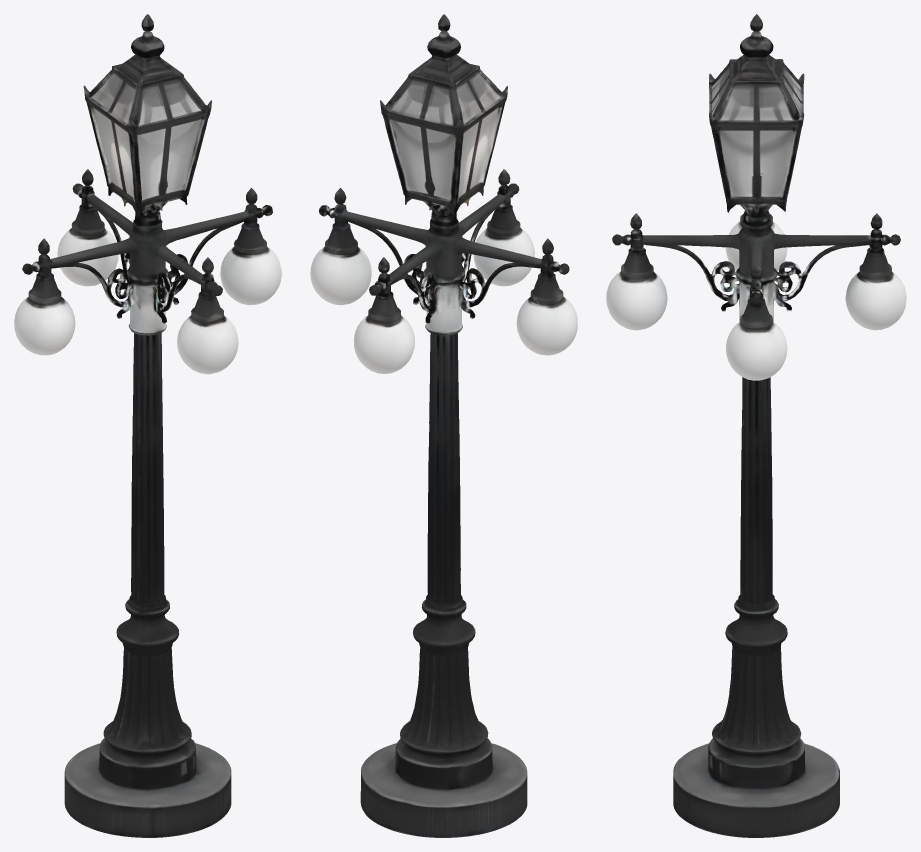
Rendered from lamppost_vintage.glb.
The picture shows the model from 3 angles, left to right: view 1: azimuth 30°, elevation 25°; view 2: azimuth 150°, elevation 25°; view 3: azimuth 270°, elevation 25°; orthographic projection.
Visible parts, largest first — view 1: model; view 2: model; view 3: model.
Boxes of the visible parts, box(x1,y1,x2,y2) form: model: box(14, 14, 281, 837); model: box(310, 14, 577, 837); model: box(606, 14, 906, 837).
Size of the model in its own units: 0.6151 by 1.79 by 0.6178.
Materials: 1 (1 with a texture image).
